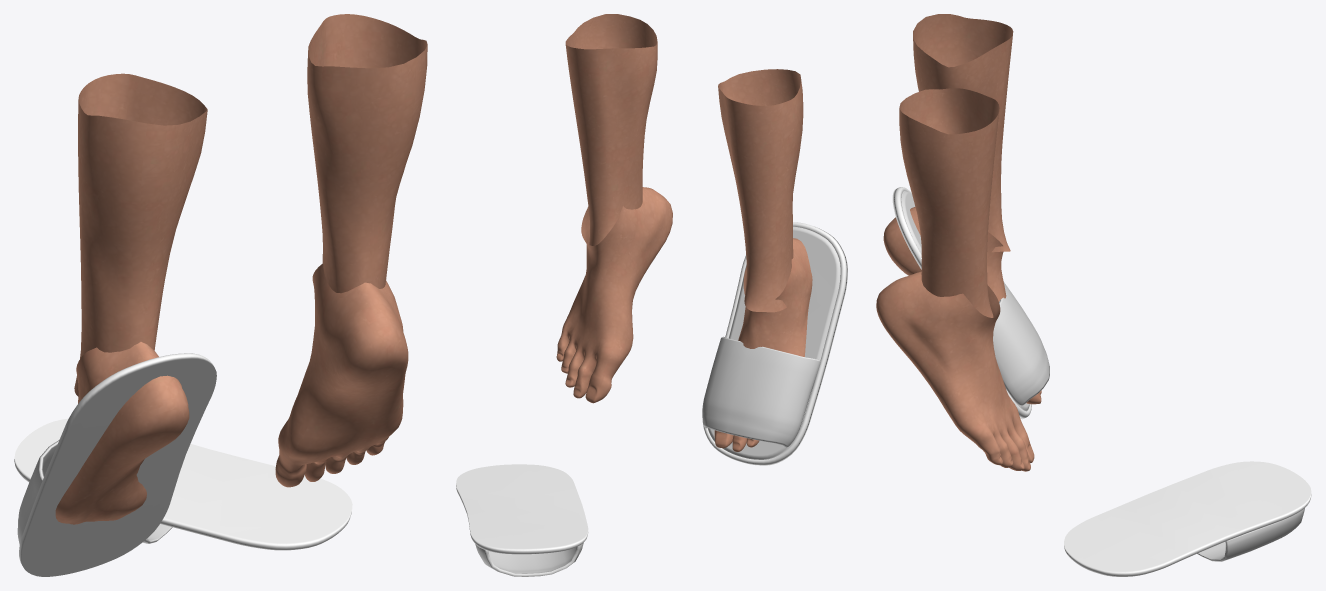
File: legsandslippers.fbx
3 views of the same model, side by side, from view 1: azimuth 30°, elevation 25°; view 2: azimuth 150°, elevation 25°; view 3: azimuth 270°, elevation 25° (orthographic). The views are drawn at different scales.
Parts seen in each view (by area): view 1: left-leg, right-leg, right-foot, left-slipper, right-slipper, left-foot; view 2: left-slipper, right-leg, left-leg, right-foot, right-slipper, left-foot; view 3: right-slipper, right-leg, right-foot, left-leg, left-slipper, left-foot.
Part boxes in pixels (x1,y1,x2,y2): left-leg: (74, 73, 207, 396); right-leg: (307, 14, 427, 293); right-foot: (275, 263, 408, 487); left-slipper: (17, 353, 216, 576); right-slipper: (14, 418, 352, 550); left-foot: (55, 342, 189, 524); left-slipper: (702, 222, 847, 465); right-leg: (565, 14, 657, 245); left-leg: (718, 69, 803, 312); right-foot: (556, 187, 672, 403); right-slipper: (456, 464, 588, 576); left-foot: (714, 238, 812, 451); right-slipper: (1064, 461, 1311, 576); right-leg: (899, 88, 999, 317); right-foot: (876, 271, 1034, 471); left-leg: (913, 14, 1013, 252); left-slipper: (892, 187, 1049, 419); left-foot: (883, 207, 1041, 404).
Bounding box in the file's own units: 38.97 × 55.03 × 46.77.
